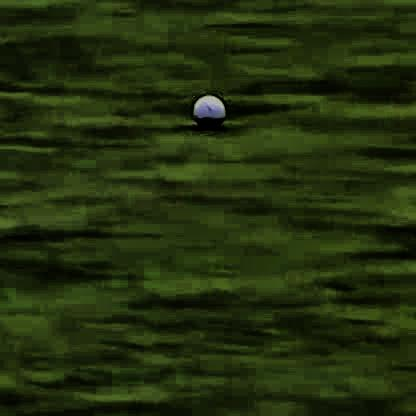golfball: (189, 90, 225, 126)
